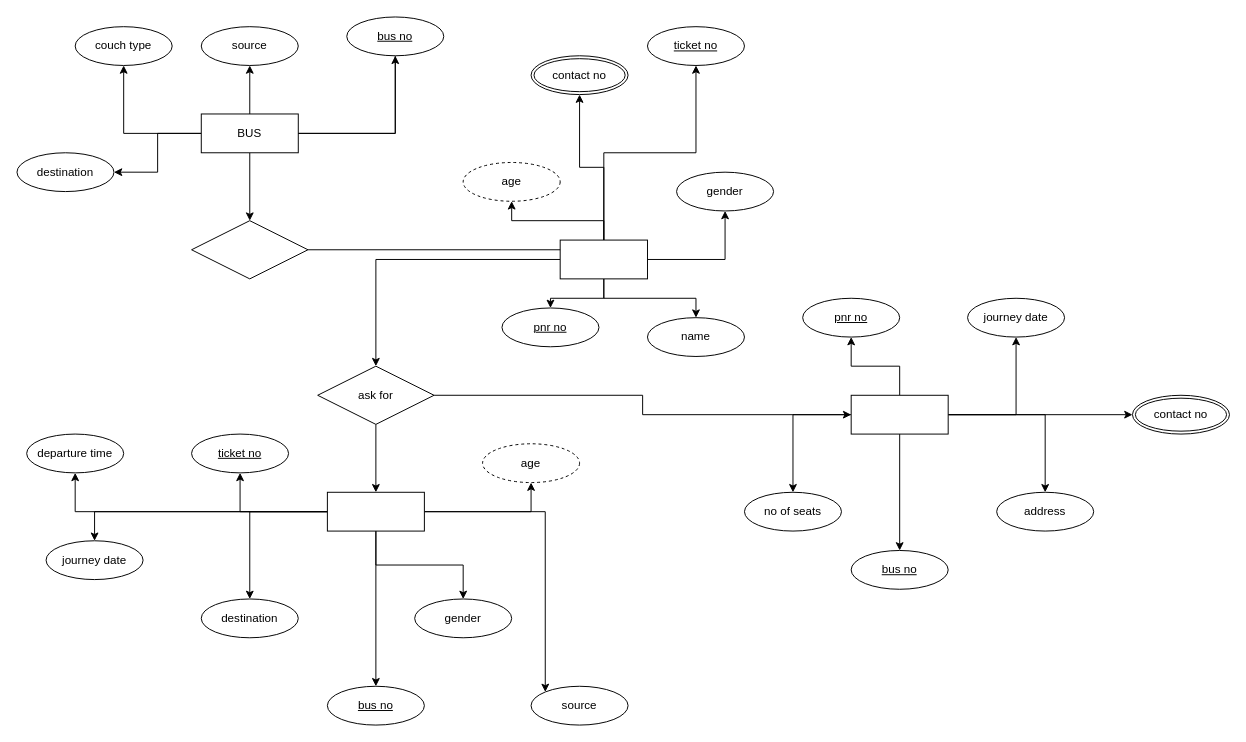
The diagram is 1246 pixels wide and 742 high, and some of its shapes have lost their labels. Each missing label, with the centre of its shape:
"Has" belongs at point (249, 249).
"PASSENGER" belongs at point (603, 259).
"RESERVATION" belongs at point (899, 414).
"TICKET" belongs at point (375, 511).
